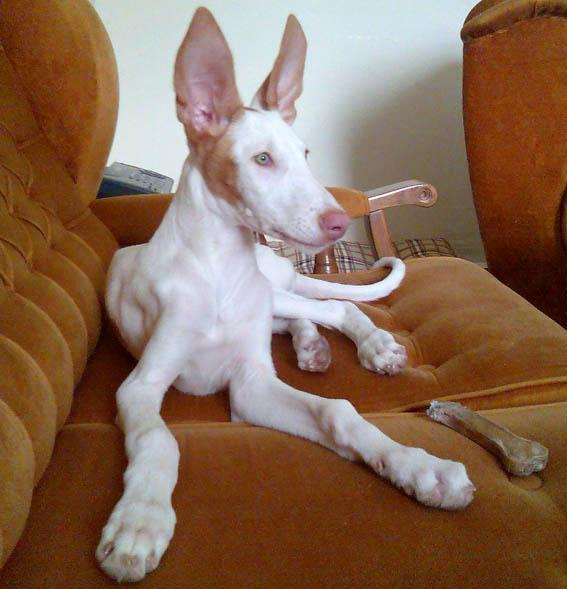Ibizan_hound: (89, 4, 474, 577)
